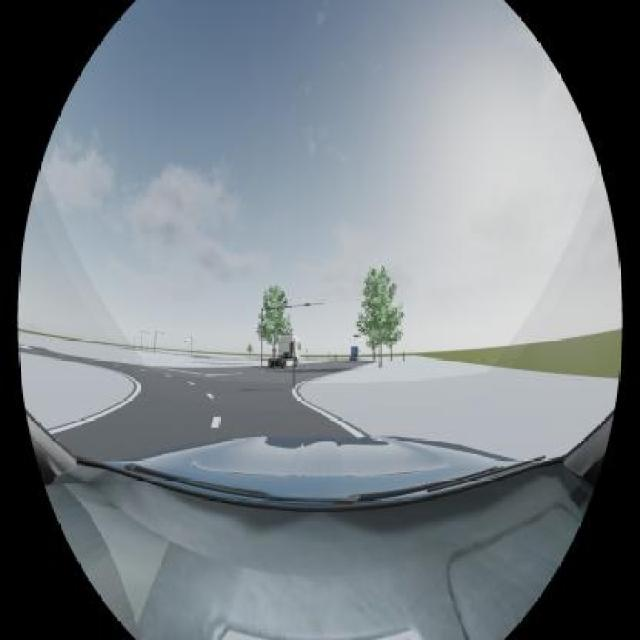forb_speed_over_60: (272, 347, 277, 353)
